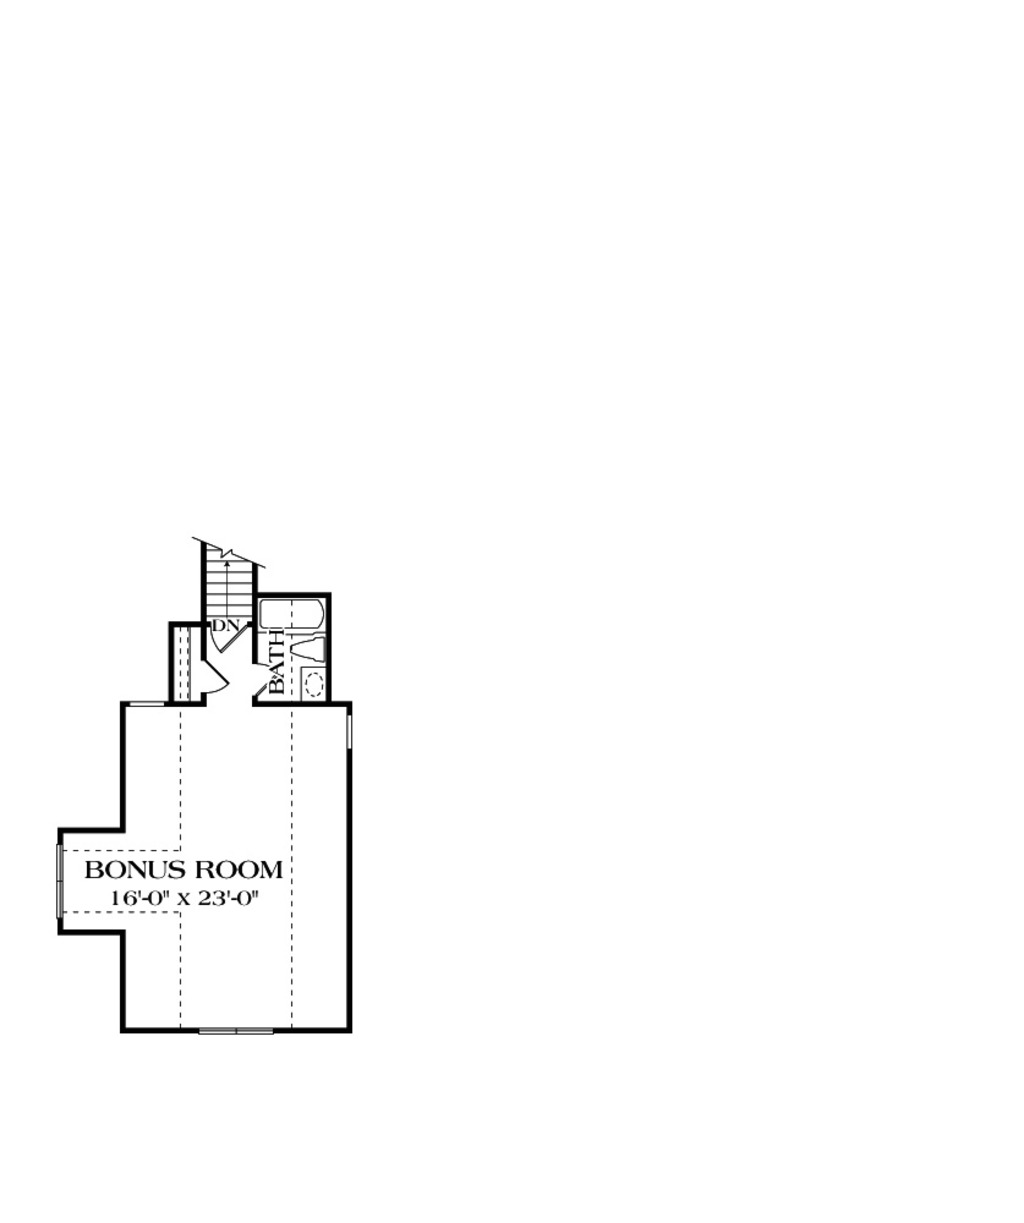door: (201, 655, 238, 700), (210, 622, 246, 665), (249, 665, 277, 698)
large_sink: (292, 637, 335, 667)
small_sink: (290, 667, 335, 709)
stairs: (205, 531, 253, 617)
tub: (255, 596, 335, 639)
window: (51, 842, 79, 924), (129, 689, 175, 718), (338, 702, 360, 752), (198, 1028, 275, 1037)
